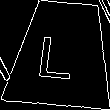L_N: (39, 27, 84, 81)
